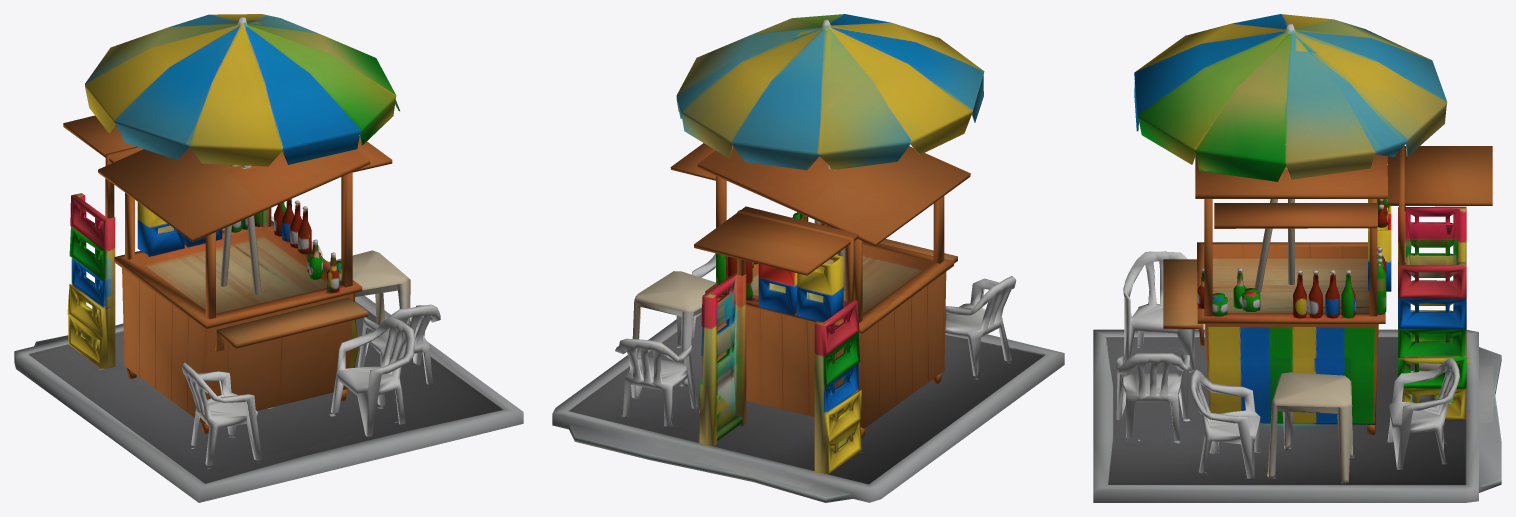
The model's file is drinkstand.glb.
The picture shows the model from 3 angles, left to right: view 1: azimuth 30°, elevation 25°; view 2: azimuth 150°, elevation 25°; view 3: azimuth 270°, elevation 25°; orthographic projection.
Visible parts, largest first — view 1: Beach Umbrella Boteco; view 2: Beach Umbrella Boteco; view 3: Beach Umbrella Boteco.
Boxes of the visible parts, x1,y1,x2,y2 form: Beach Umbrella Boteco: (14, 14, 523, 502); Beach Umbrella Boteco: (552, 14, 1064, 502); Beach Umbrella Boteco: (1093, 14, 1501, 502).
Size of the model in its own units: 0.8926 by 0.998 by 0.9551.
Materials: 1 (1 with a texture image).
